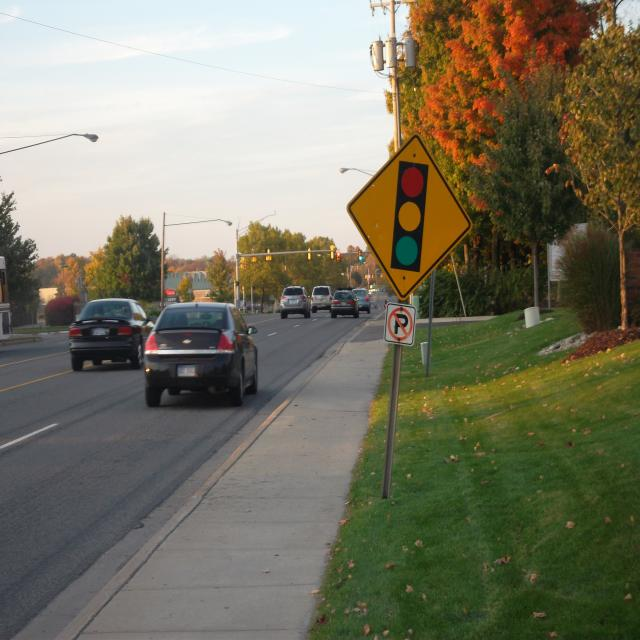regulatory: (383, 302, 417, 346)
warning: (349, 133, 472, 300)
